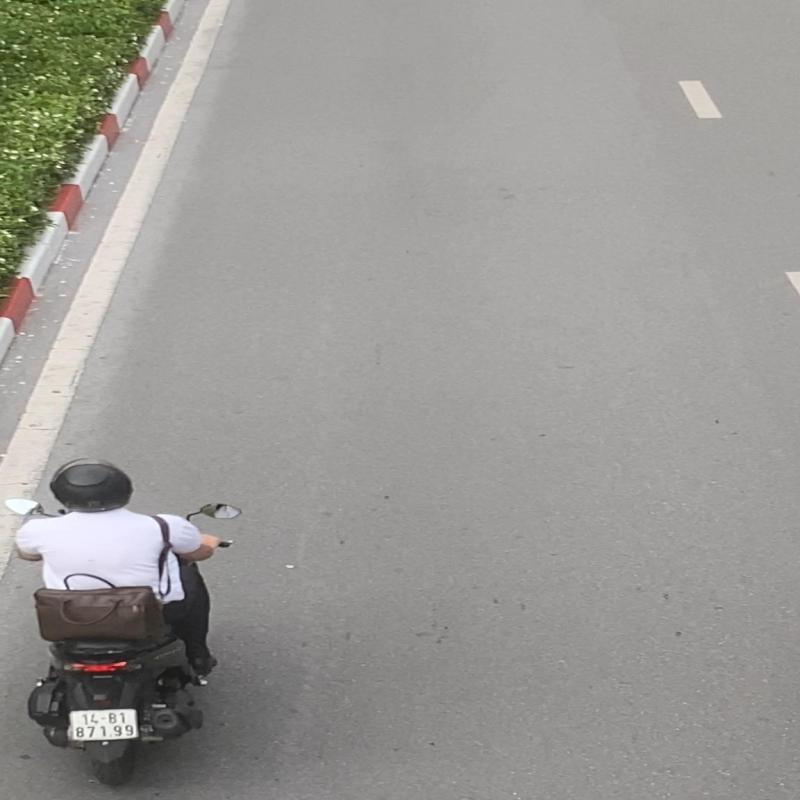helmet: (47, 457, 136, 512)
licenseplate: (63, 705, 144, 743)
motorcyclist: (1, 454, 249, 800)
